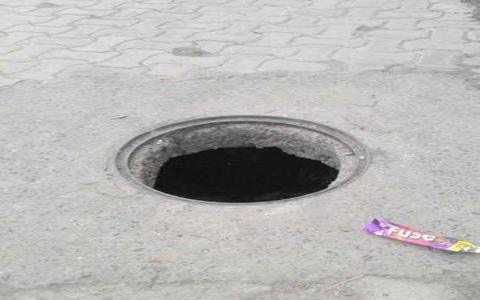open manhole: (109, 111, 373, 207)
